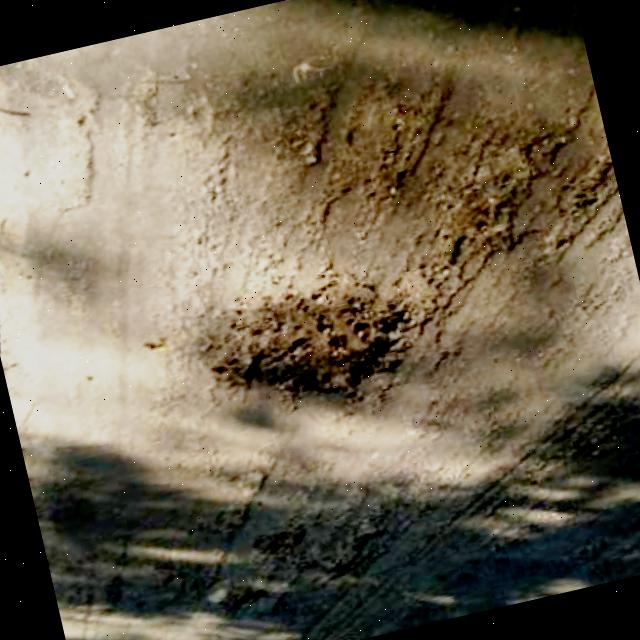pothole: (194, 222, 431, 423)
